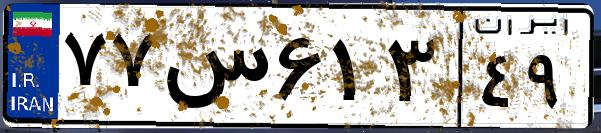1: (330, 28, 385, 110)
3: (385, 28, 445, 110)
4: (475, 38, 525, 113)
6: (270, 28, 330, 110)
7: (57, 26, 110, 100), (110, 28, 158, 98)
9: (525, 38, 570, 115)
س: (158, 20, 270, 120)
